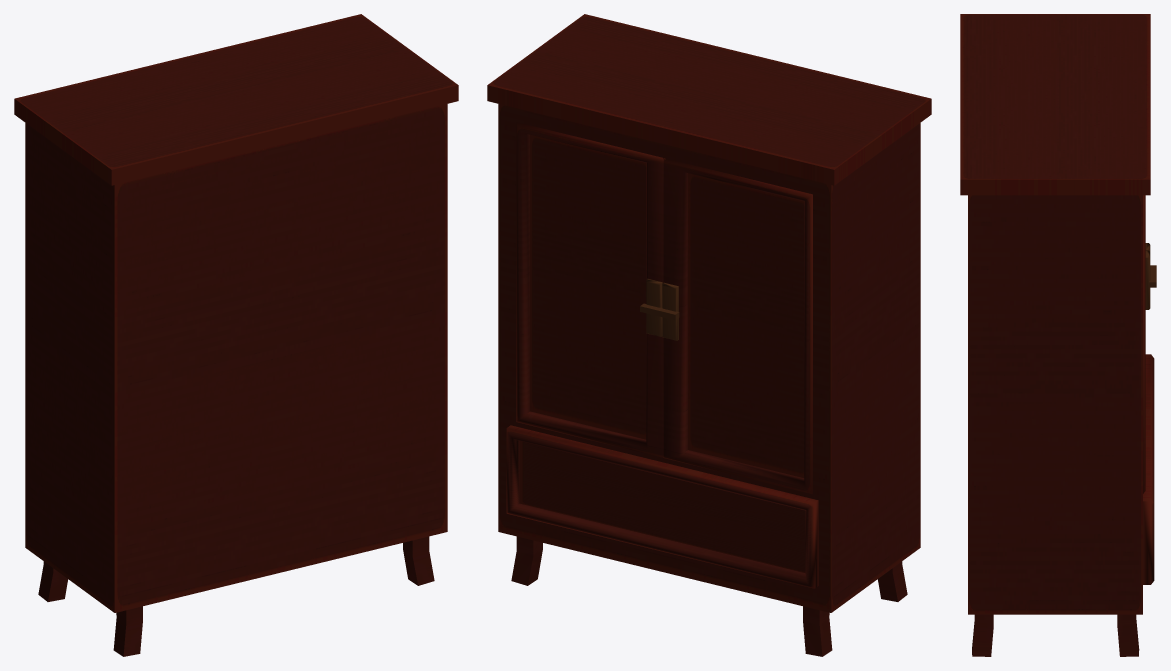
File: Anim.fbx
3 renders of one model, left to right at view 1: azimuth 30°, elevation 25°; view 2: azimuth 150°, elevation 25°; view 3: azimuth 270°, elevation 25°, orthographic. The views are drawn at different scales.
Visible parts, largest first — view 1: Drawers; view 2: Drawers, DoorRight, DoorLeft; view 3: Drawers, DoorLeft.
Part boxes in pixels (left/top/right/bottom): Drawers: left=14, top=14, right=458, bottom=656; Drawers: left=487, top=14, right=931, bottom=656; DoorRight: left=656, top=158, right=812, bottom=494; DoorLeft: left=516, top=122, right=665, bottom=457; Drawers: left=960, top=14, right=1154, bottom=656; DoorLeft: left=1143, top=195, right=1156, bottom=493.
Size of the model in its own units: 2.28 by 3.12 by 1.14.
